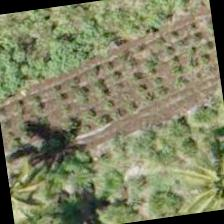Kelapa_Sawit: (178, 138, 223, 214)
